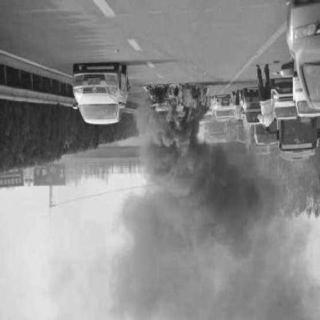Fire: (141, 78, 215, 128)
Smoke: (123, 148, 305, 318)
